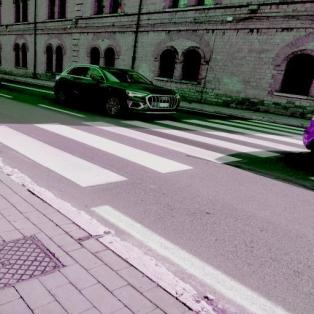Paso de Cebra: (29, 116, 250, 175)
